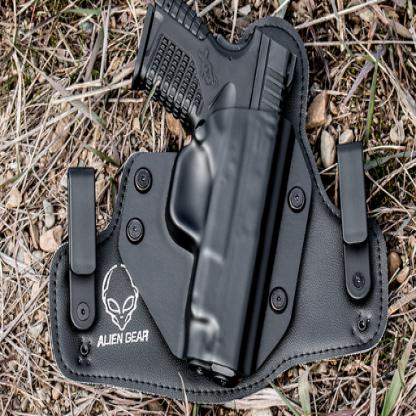gun: (131, 0, 299, 387)
